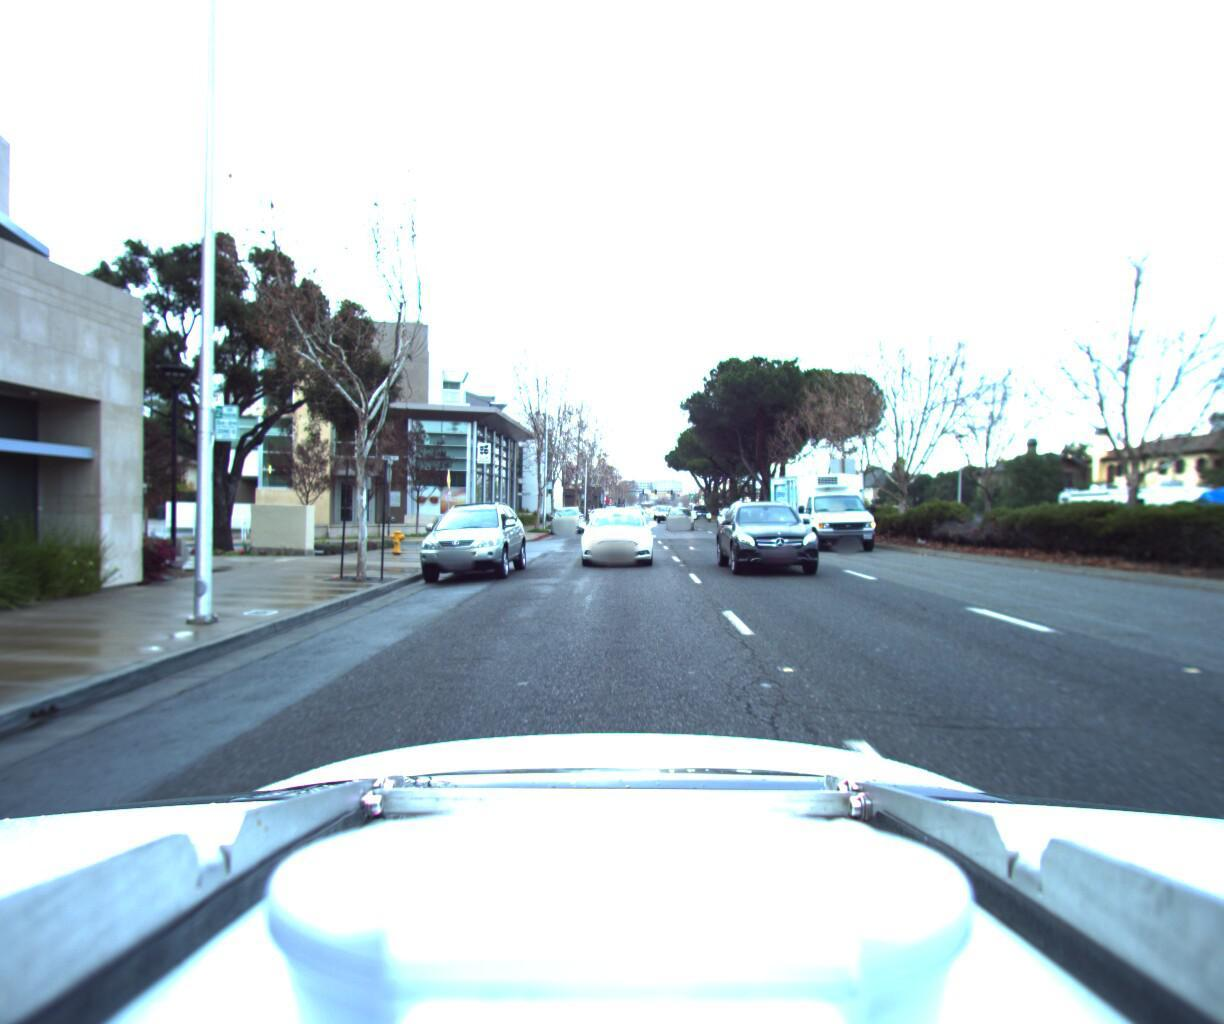car: (716, 492, 842, 578), (412, 496, 527, 583), (577, 500, 655, 564), (709, 498, 750, 529), (547, 498, 586, 529), (662, 504, 700, 529), (690, 503, 711, 519)
other_vehicle: (1043, 467, 1224, 549), (1181, 471, 1224, 577)
truck: (771, 457, 904, 549)
